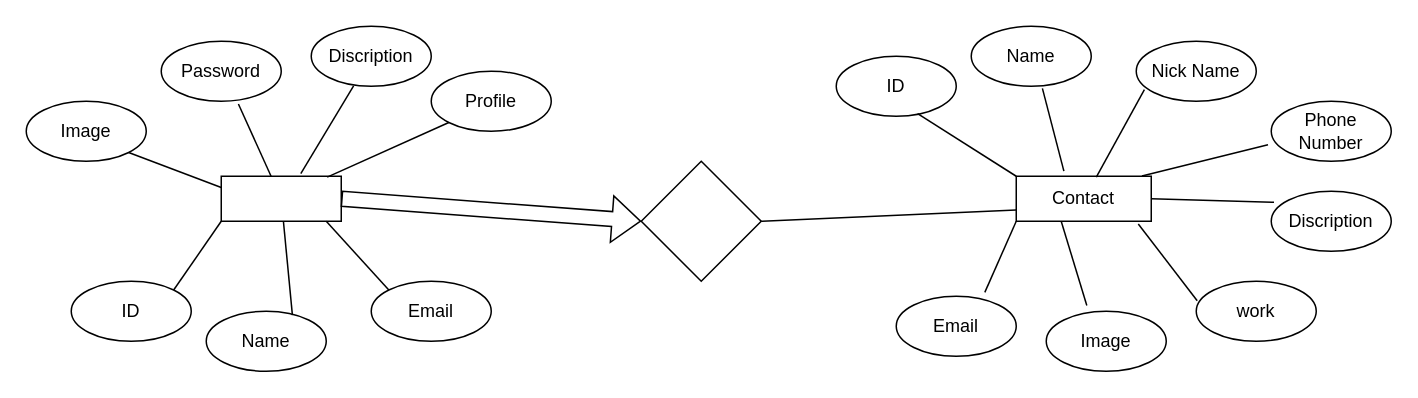
Image size: 1418x398. Some labels were removed from this diagram. The box of each missing label's shape, as (x1, y1, x2, y2) in pixels:
One user have many contract: (640, 160, 761, 281)
USERS: (220, 175, 341, 221)
